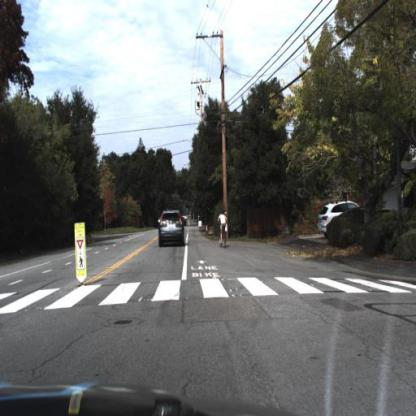biker: (211, 206, 234, 251)
car: (312, 193, 363, 239), (154, 202, 190, 252)
